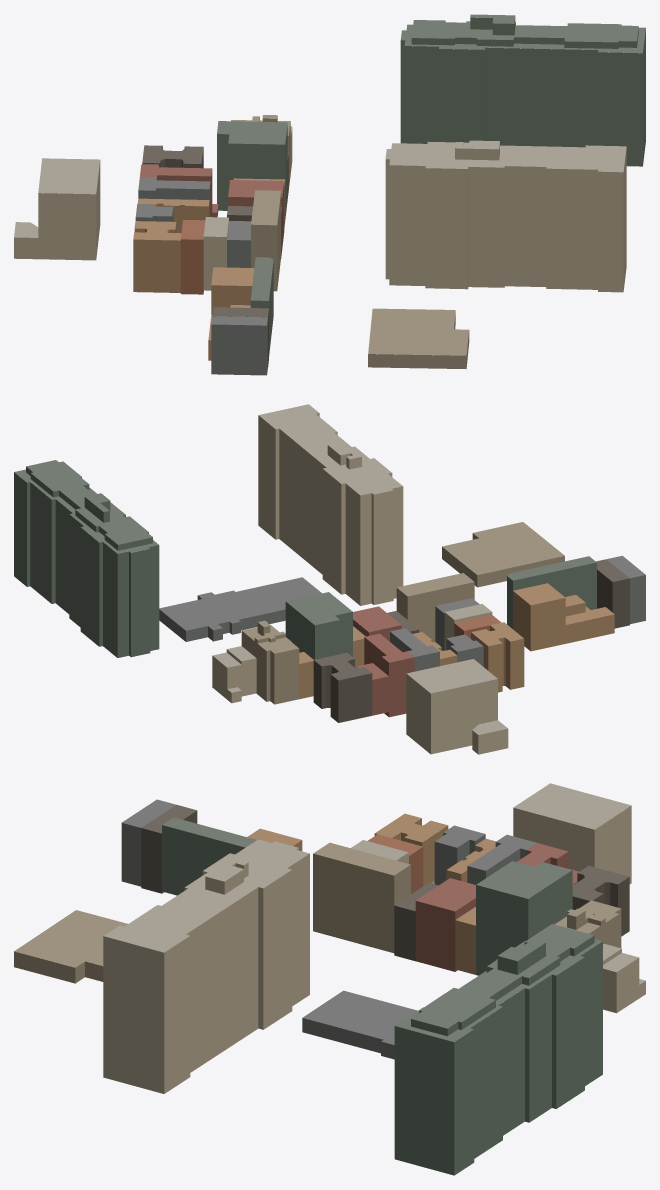
Rendered from tile--1_1.glb.
3 views of the same model, one above another, from view 1: azimuth 30°, elevation 25°; view 2: azimuth 150°, elevation 25°; view 3: azimuth 270°, elevation 25° (orthographic). The views are drawn at different scales.
Visible parts, largest first — view 1: wall, roof; view 2: wall, roof; view 3: wall, roof.
Boxes of the visible parts, box(x1,y1,x2,y2) form: wall: box(14, 17, 645, 375); roof: box(14, 14, 645, 355); wall: box(14, 413, 645, 754); roof: box(14, 404, 645, 734); wall: box(14, 805, 645, 1175); roof: box(14, 783, 645, 1044).
Bounding box in the file's own units: 250 × 57.53 × 198.
